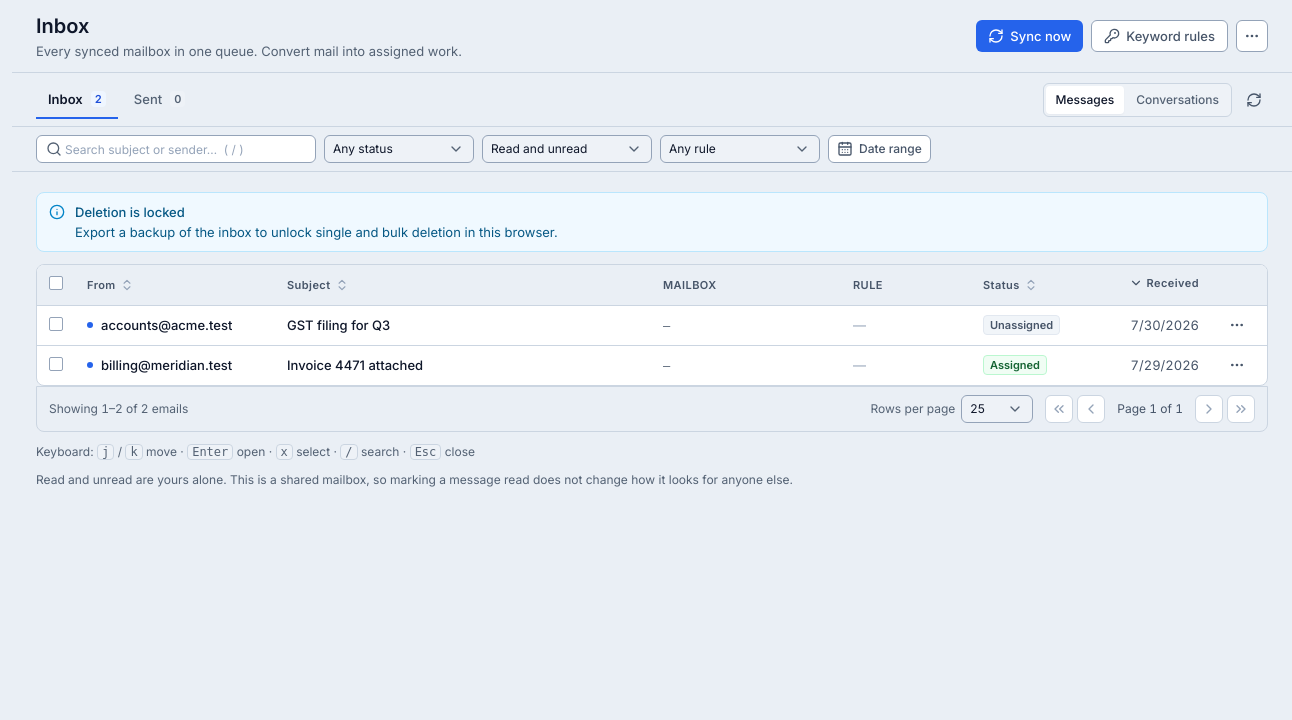
Test: EmailInbox — filters are URL state › writes a status filter into the query string
Expected: the text "GST filing for Q3" is shown, [287, 317, 390, 333]
Select "Assigned" in the 1st dropdown named "Filter by status": (399, 149) [324, 135, 474, 163]
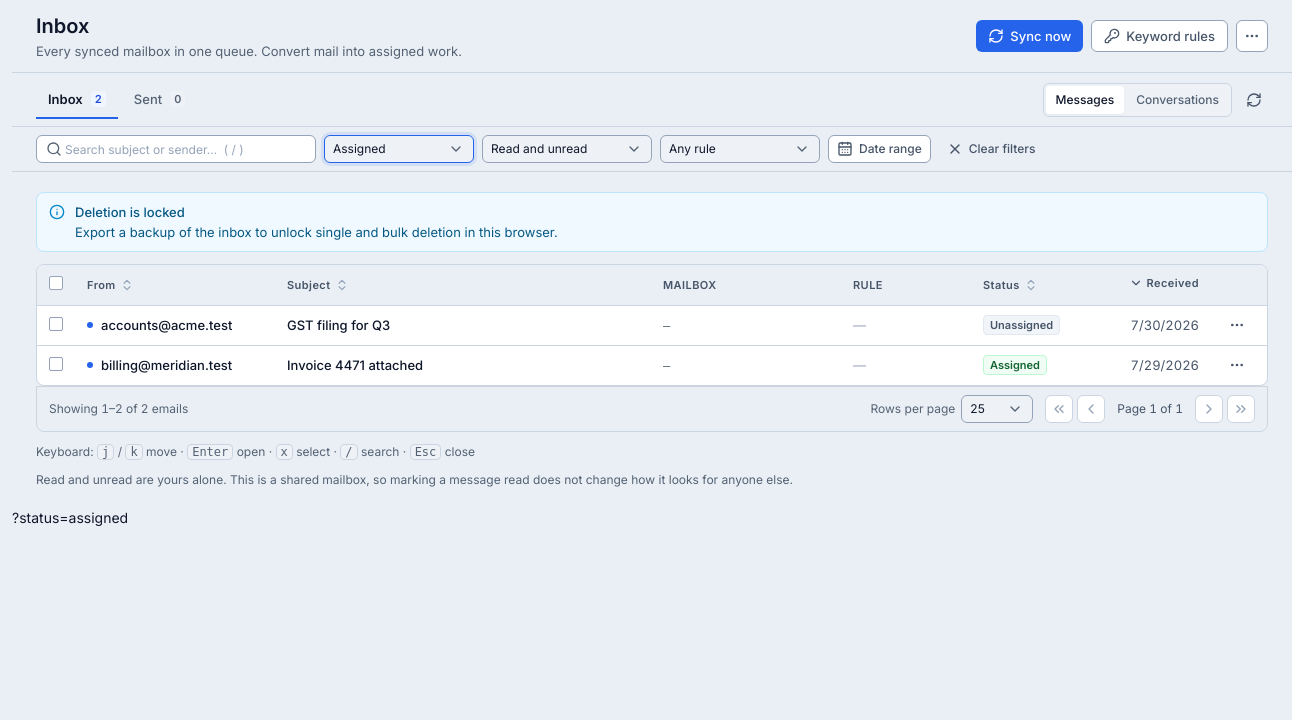
Now the text with test id "query-string" shows "status=assigned", box [12, 509, 128, 526]
